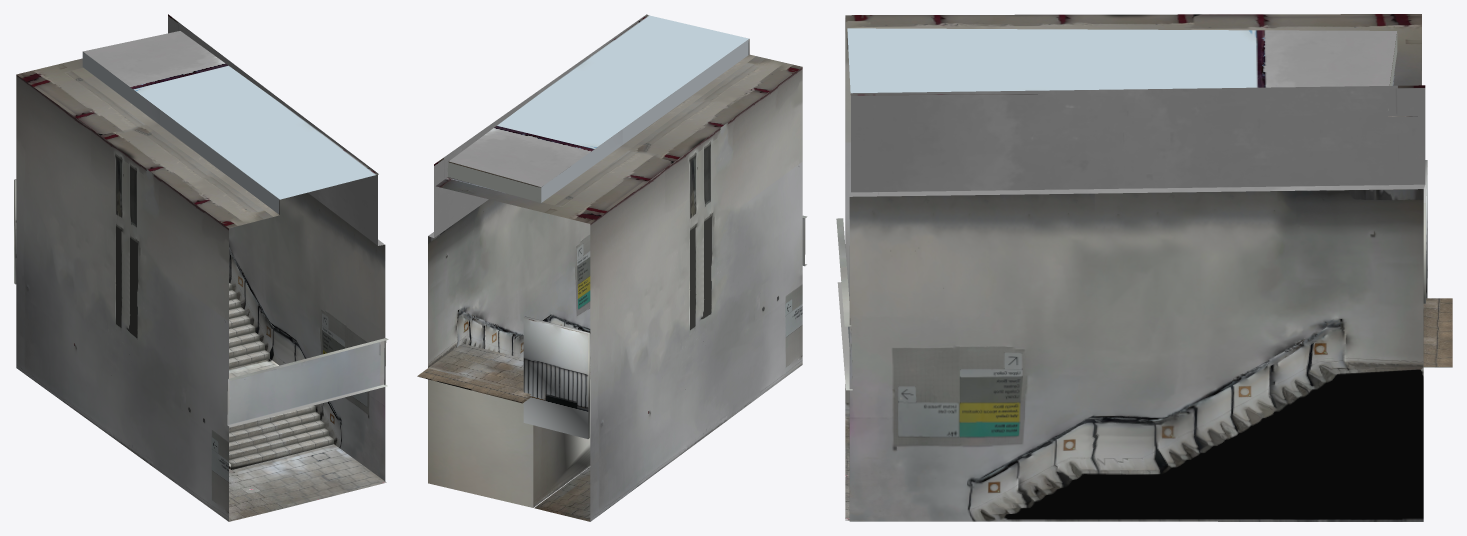
Rendered from Main-LP.fbx.
The picture shows the model from 3 angles, left to right: view 1: azimuth 30°, elevation 25°; view 2: azimuth 150°, elevation 25°; view 3: azimuth 270°, elevation 25°; orthographic projection. The views are drawn at different scales.
Parts seen in each view (by area): view 1: Main-LP; view 2: Main-LP; view 3: Main-LP.
Boxes of the visible parts, x1,y1,x2,y2 form: Main-LP: [14, 14, 388, 521]; Main-LP: [417, 14, 807, 521]; Main-LP: [836, 14, 1452, 521].
Size of the model in its own units: 567 by 1061 by 1372.
Materials: 1 (1 with a texture image).
